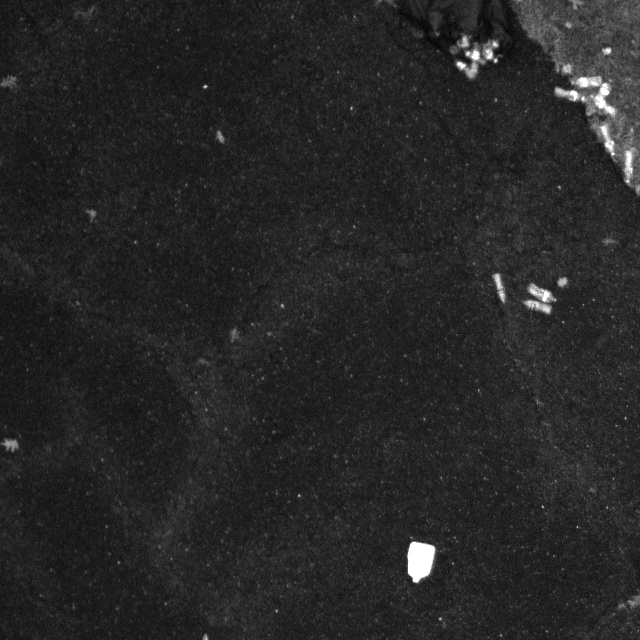bottle: (524, 279, 560, 307), (447, 56, 482, 83), (587, 81, 615, 112), (587, 93, 620, 118), (550, 85, 591, 105), (566, 71, 606, 91), (487, 270, 510, 304), (518, 298, 556, 316)
can: (400, 540, 442, 586)
